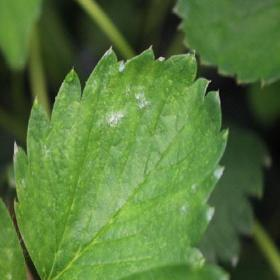Powdery Mildew Leaf: (13, 44, 230, 279)
